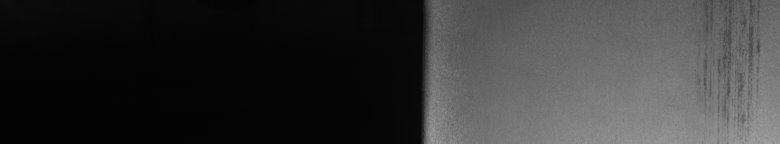ka: (697, 5, 760, 123)
